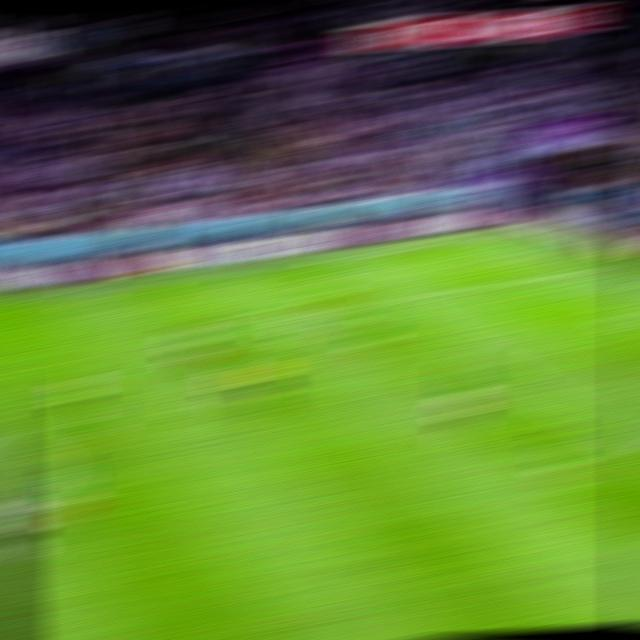bigarea_top_inner: (372, 292, 410, 306)
bigarea_top_outter: (577, 262, 616, 275)
bottom_arc_area_intersection: (568, 411, 607, 428)
corner: (490, 228, 528, 239)
smallarea_top_inner: (597, 308, 634, 323)
top_arc_area_intersection: (447, 336, 487, 354)
